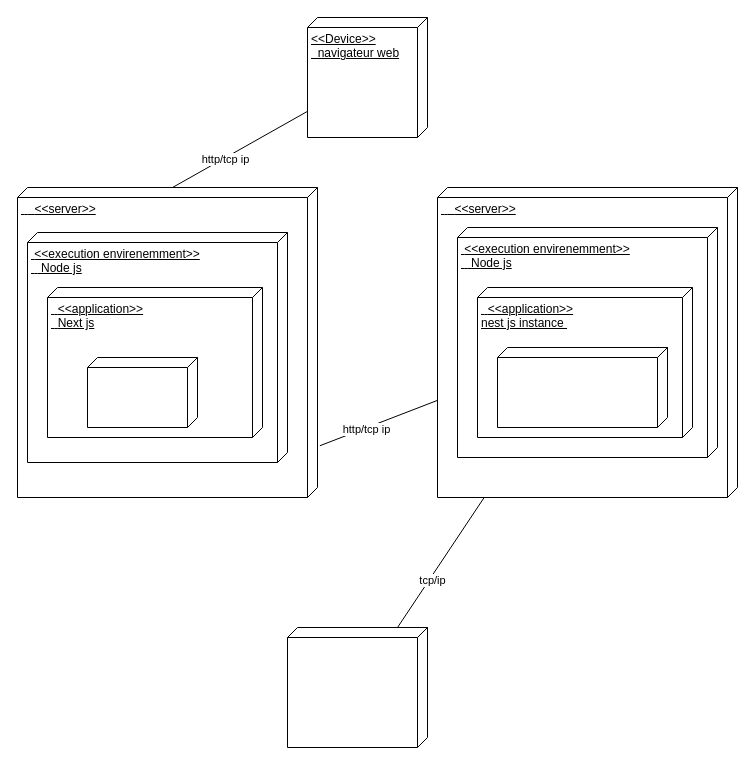
Some shapes in this 755 by 765 pixel diagram are drawn without their labels. Each missing label, with the centre of its shape:
"<<application>> express js" belongs at point (582, 387).
"<<application>> React js" belongs at point (142, 392).
"<<SGBD>> MYSQL" belongs at point (357, 687).
